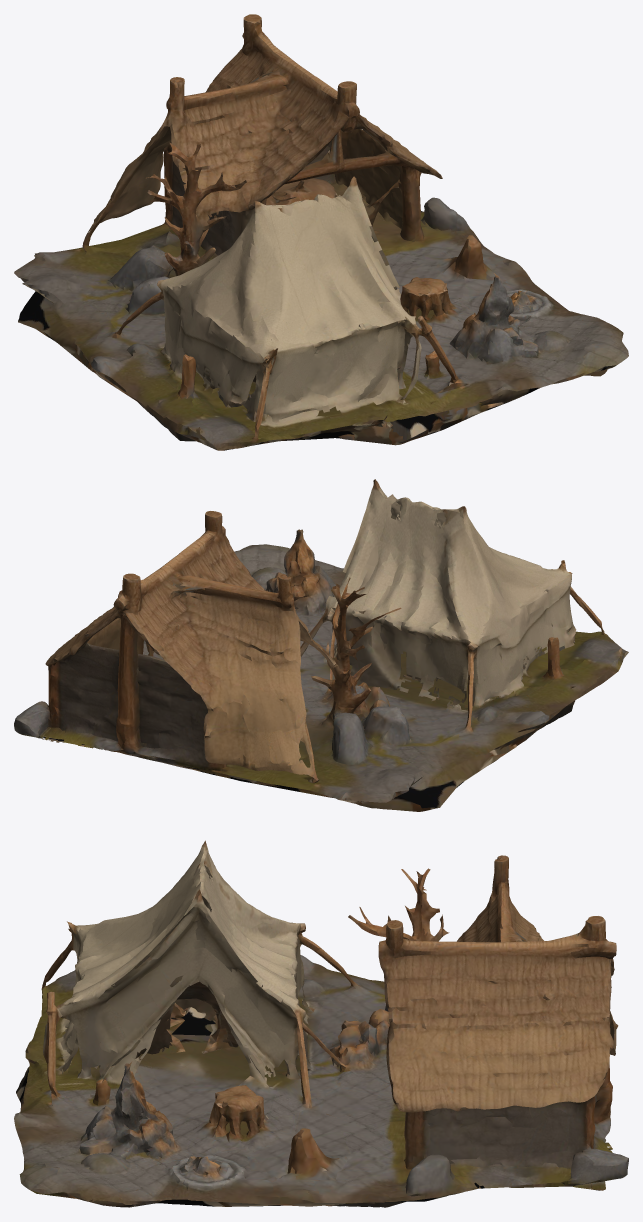
File: human_camp.glb
3 views of the same model, one above another, from view 1: azimuth 30°, elevation 25°; view 2: azimuth 150°, elevation 25°; view 3: azimuth 270°, elevation 25° (orthographic). The views are drawn at different scales.
Parts seen in each view (by area): view 1: output_unwrapped; view 2: output_unwrapped; view 3: output_unwrapped.
Boxes of the visible parts, x1,y1,x2,y2 form: output_unwrapped: (14,14,628,450); output_unwrapped: (14,479,628,811); output_unwrapped: (14,840,628,1207).
Size of the model in its own units: 1.68 by 0.7947 by 1.83.
1 material, 1 textured.
